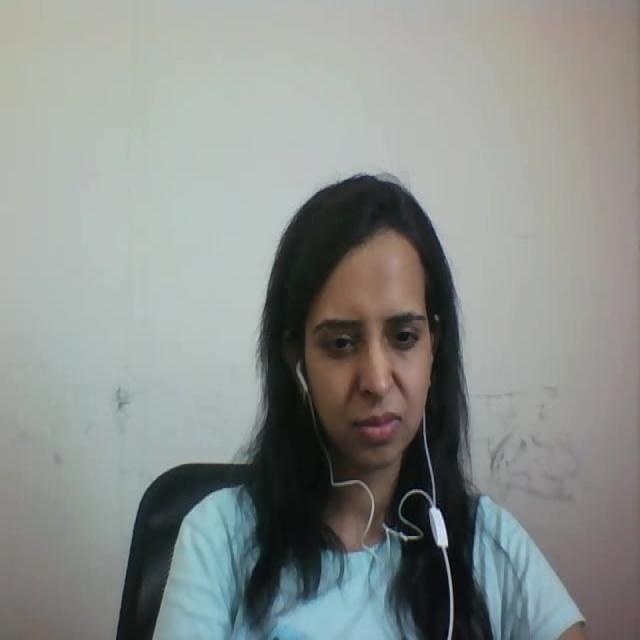Engaged: (256, 160, 504, 497)
